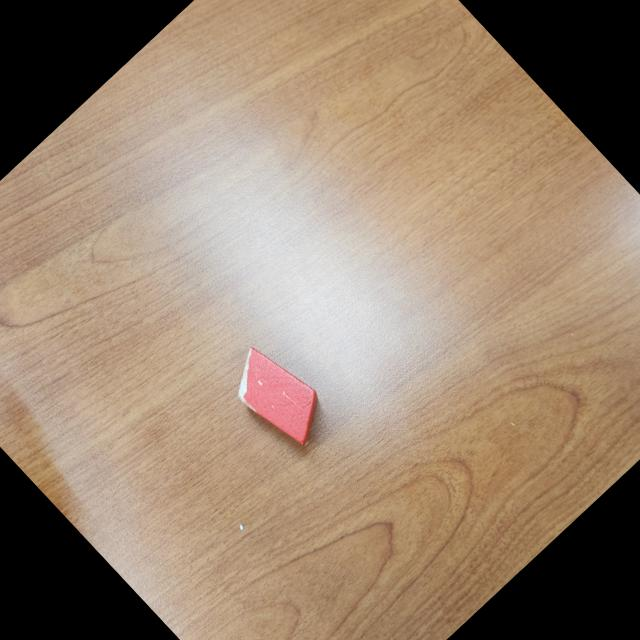broken: (217, 334, 338, 457)
